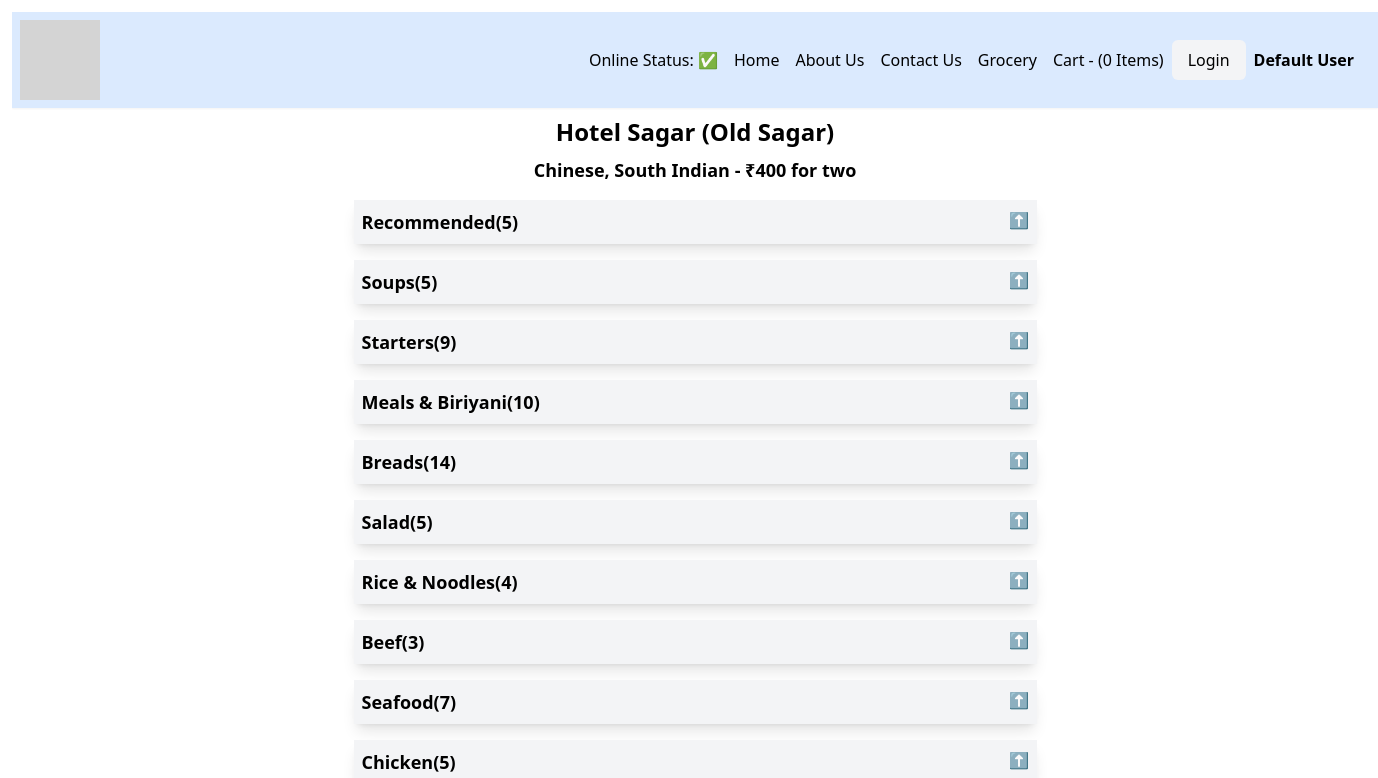
Test: Should add items into cart inside Restaurant Menu component
Click the text "Soups(5)". click: coordinates (399, 282)
box: [362,268,437,296]
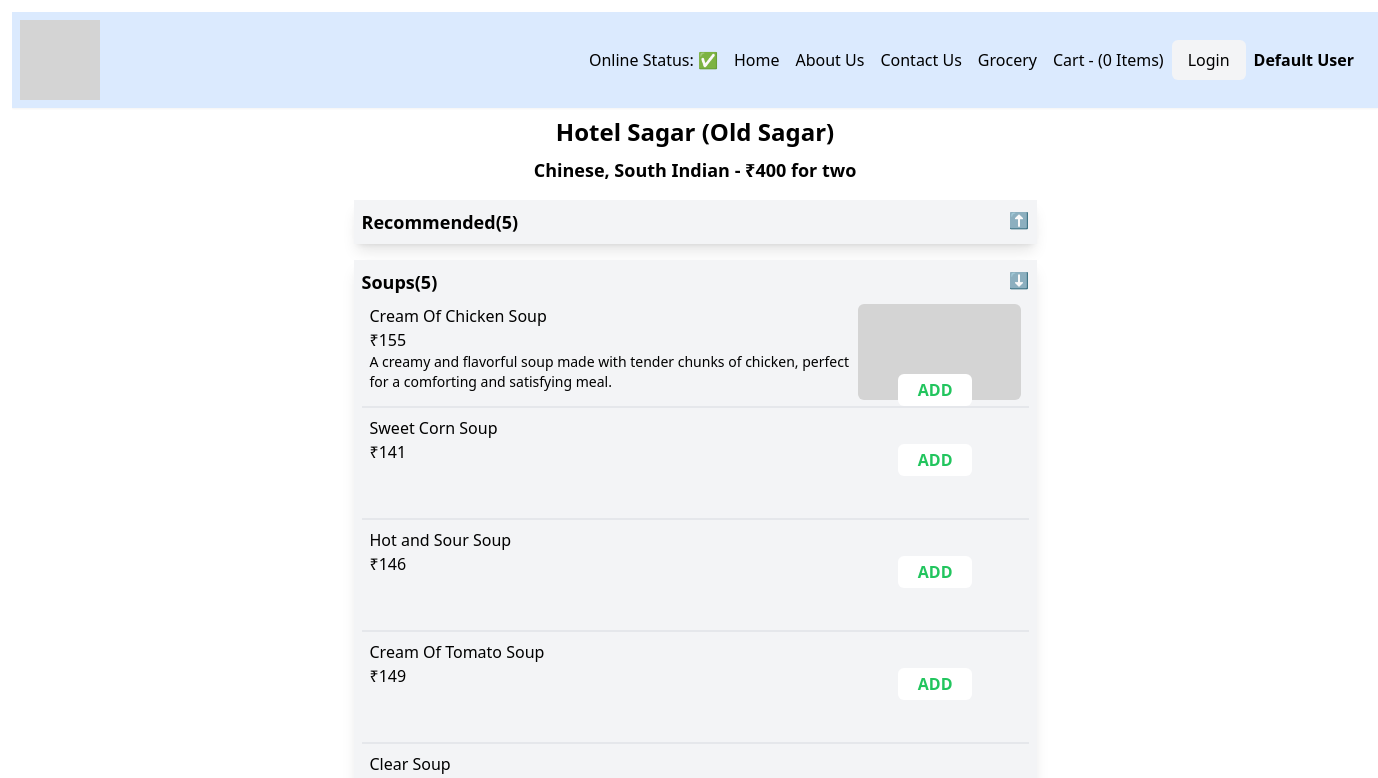
Click the 1st button "ADD". click: coordinates (935, 390)
box: [898,374,972,406]
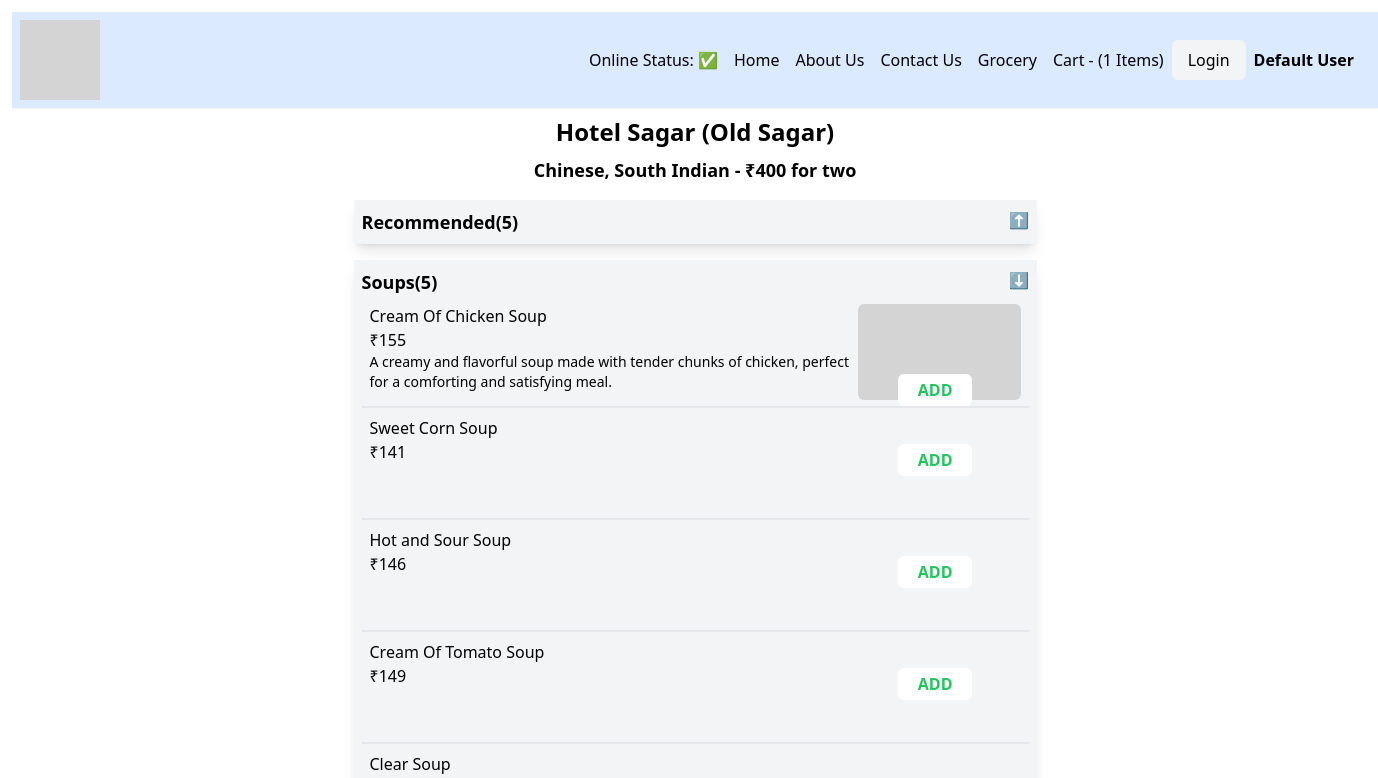
Expected: the link "Cart - (1 Items)" is shown, [1053,49,1164,71]
Click the 1st button "ADD". click: coordinates (935, 390)
box: [898,374,972,406]
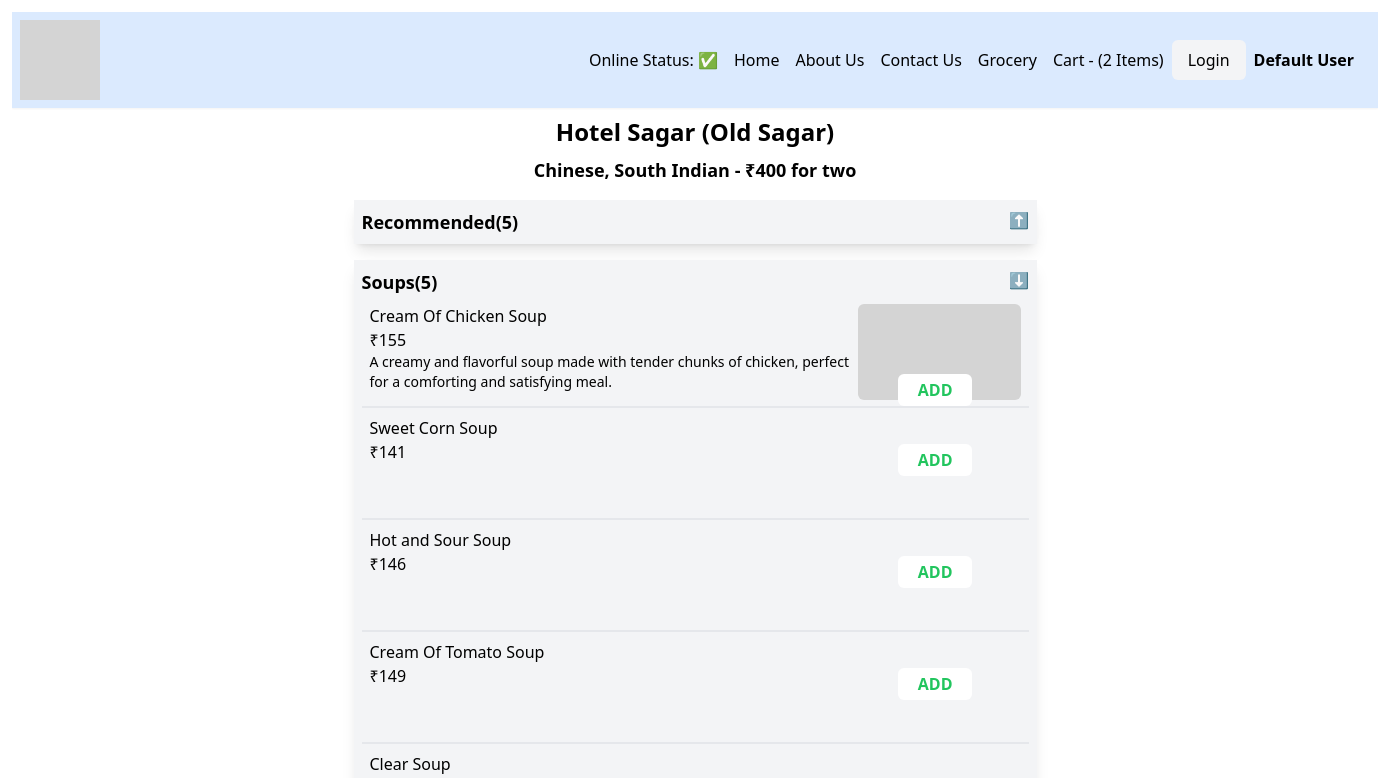
Expected: the link "Cart - (2 Items)" is shown, [1053,49,1164,71]
